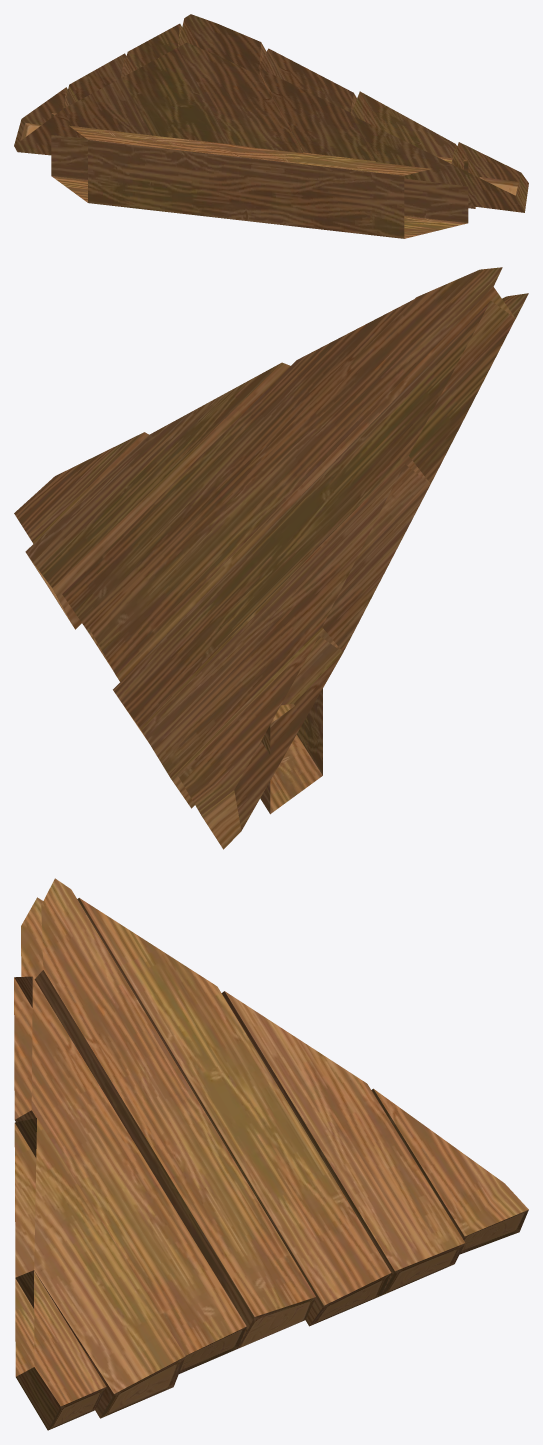
The model's file is roof_wooden_2x1_corner.glb.
3 views of the same model, one above another, from view 1: azimuth 30°, elevation 25°; view 2: azimuth 150°, elevation 25°; view 3: azimuth 270°, elevation 25° (orthographic). The views are drawn at different scales.
Size of the model in its own units: 1.54 by 1.18 by 1.56.
Materials: 1 (1 with a texture image).
